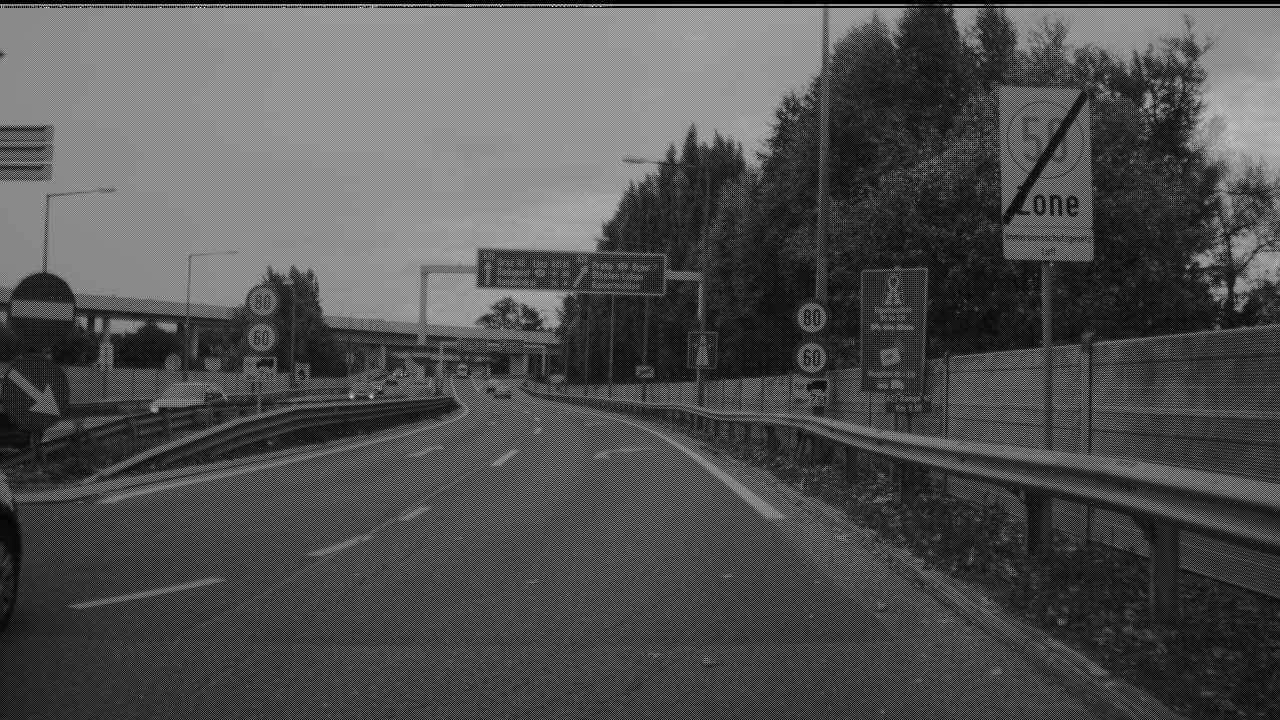pole: (812, 1, 829, 452), (697, 161, 710, 420), (414, 266, 428, 376), (181, 248, 191, 375)
